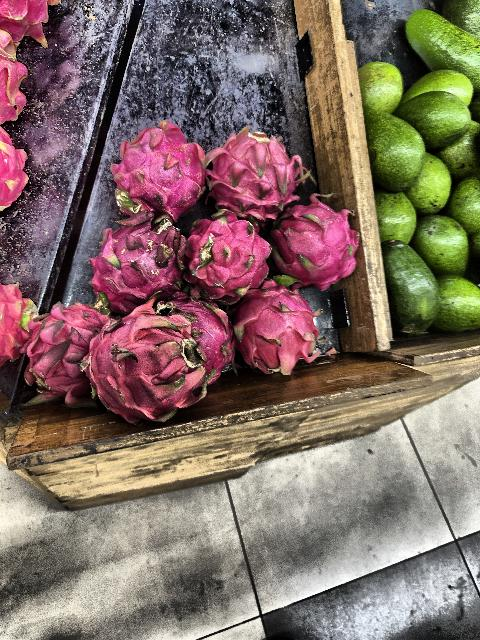buah-naga-matang: (80, 312, 214, 432), (91, 206, 189, 314), (110, 118, 204, 220), (273, 192, 363, 296), (203, 125, 301, 217), (28, 294, 106, 398), (242, 285, 330, 373), (182, 212, 264, 302)
